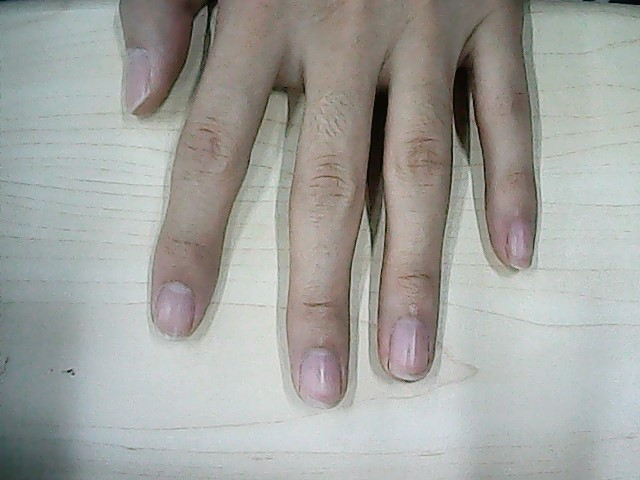nail: (300, 349, 342, 411), (392, 318, 426, 381), (157, 283, 193, 340), (126, 55, 147, 114), (509, 222, 534, 270)
